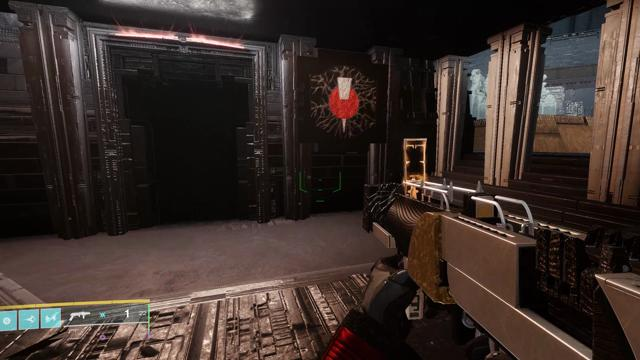kill: (308, 65, 379, 141)
